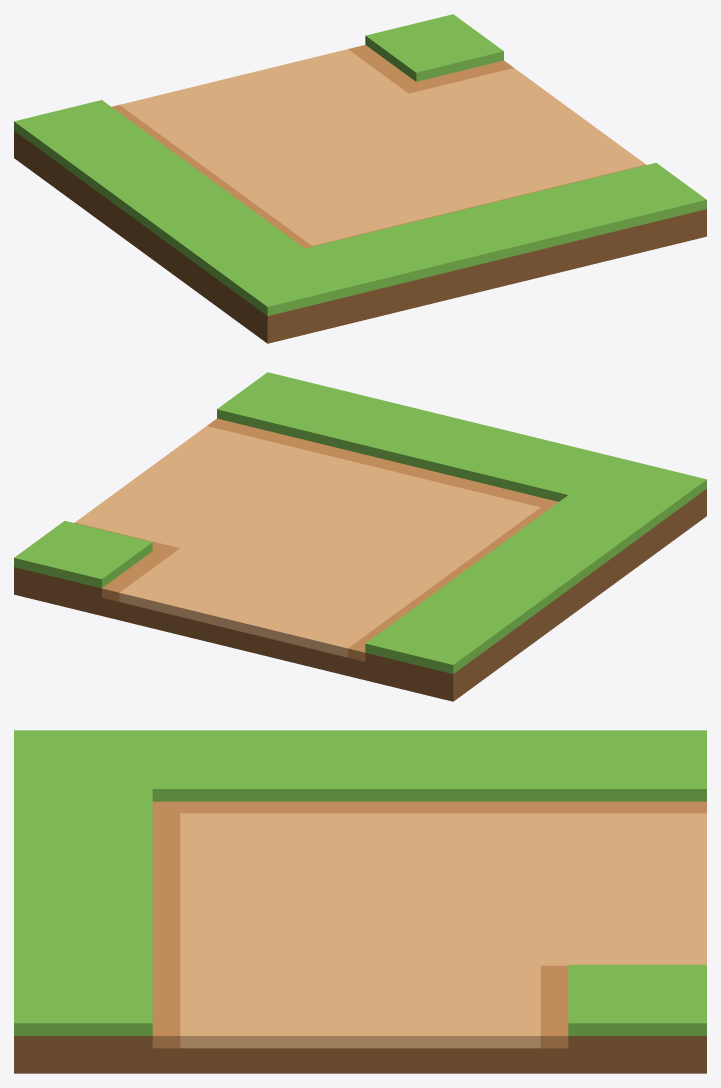
File: path_corner_b.glb
3 views of the same model, one above another, from view 1: azimuth 30°, elevation 25°; view 2: azimuth 150°, elevation 25°; view 3: azimuth 270°, elevation 25° (orthographic). The views are drawn at different scales.
Parts seen in each view (by area): view 1: model_0; view 2: model_0; view 3: model_0.
Part boxes in pixels (x1,y1,x2,y2): model_0: (14,14,706,343); model_0: (14,372,706,701); model_0: (14,730,706,1073).
Size of the model in its own units: 2 by 0.16 by 2.
